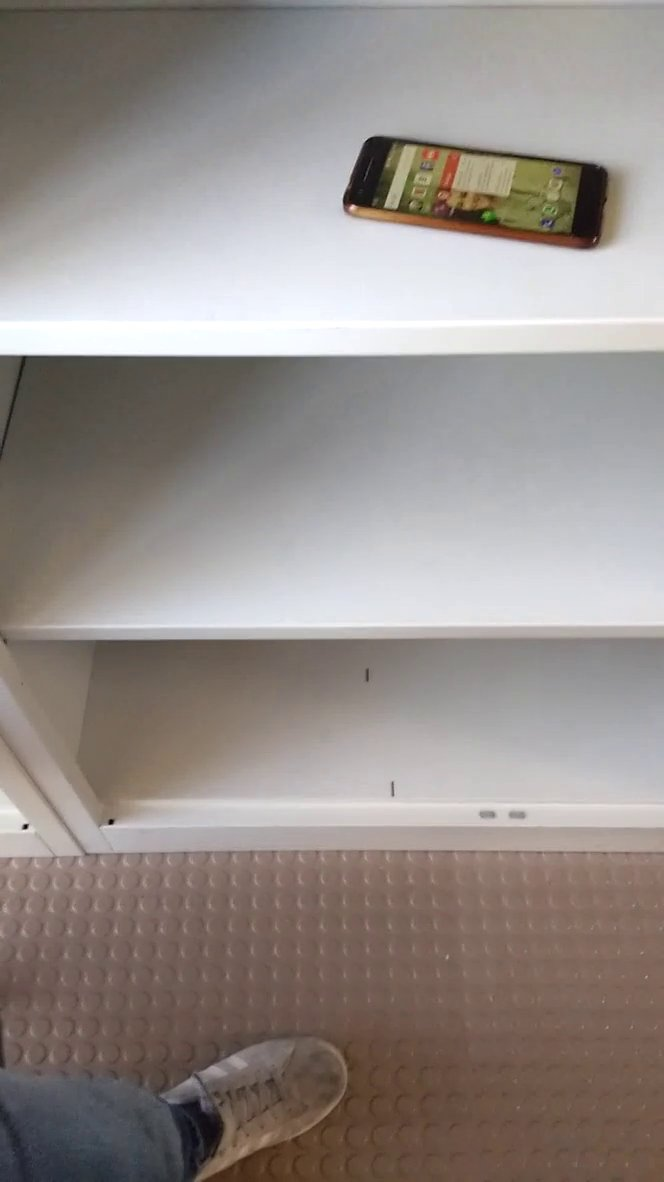phone: (335, 124, 623, 274)
